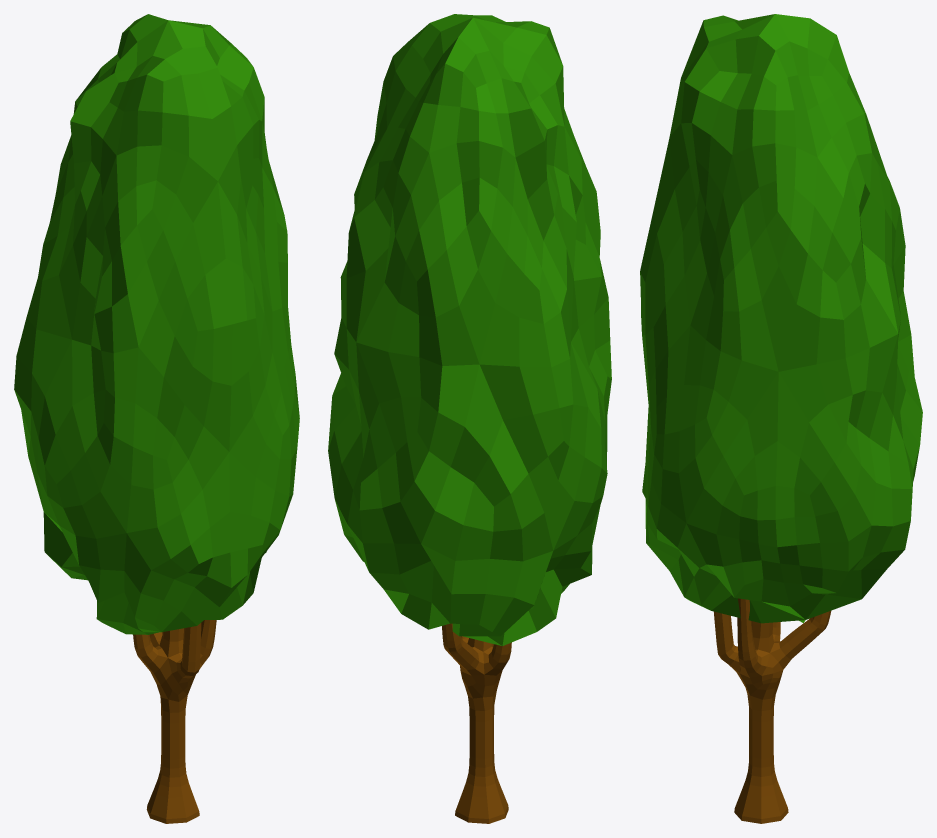
The model's file is mid trees.fbx.
3 views of the same model, side by side, from view 1: azimuth 30°, elevation 25°; view 2: azimuth 150°, elevation 25°; view 3: azimuth 270°, elevation 25° (orthographic).
Parts seen in each view (by area): view 1: arbre moyen; view 2: arbre moyen; view 3: arbre moyen.
Boxes of the visible parts, x1=… form: arbre moyen: x1=14, y1=14, x2=299, y2=823; arbre moyen: x1=328, y1=14, x2=611, y2=823; arbre moyen: x1=640, y1=14, x2=922, y2=823.
Size of the model in its own units: 805 by 2614 by 836.
